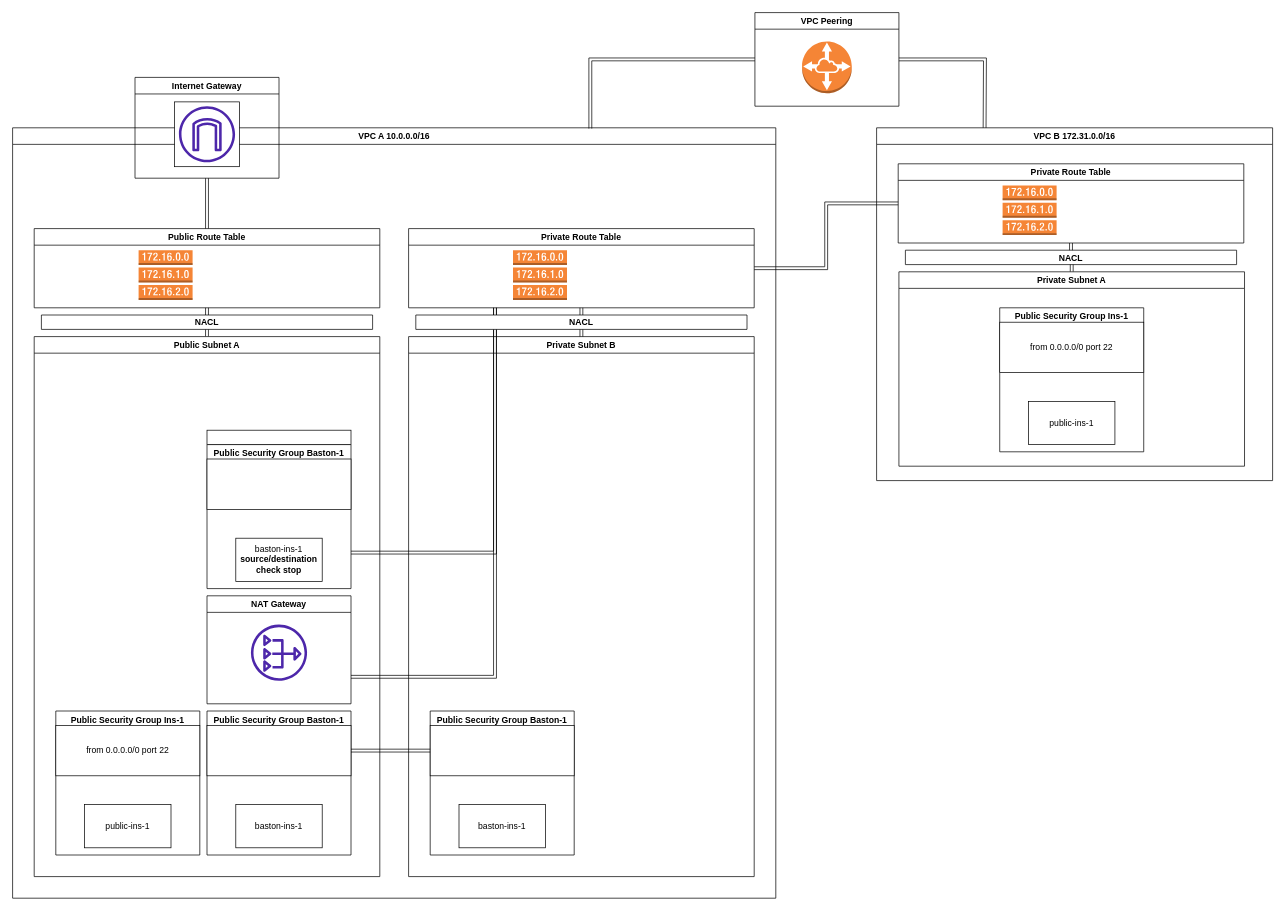
Image size: 1285x911. Some labels were removed from this diagram. The centre of each missing label's shape, as x and y in pixels:
"from local/16 port http/https/icmpipv4" belongs at point 278,483.
"from myip/32 port 22" belongs at point 278,750.
"from sc-baston-1 port 22" belongs at point 501,750.
"LEGACY" belongs at point 278,437.
